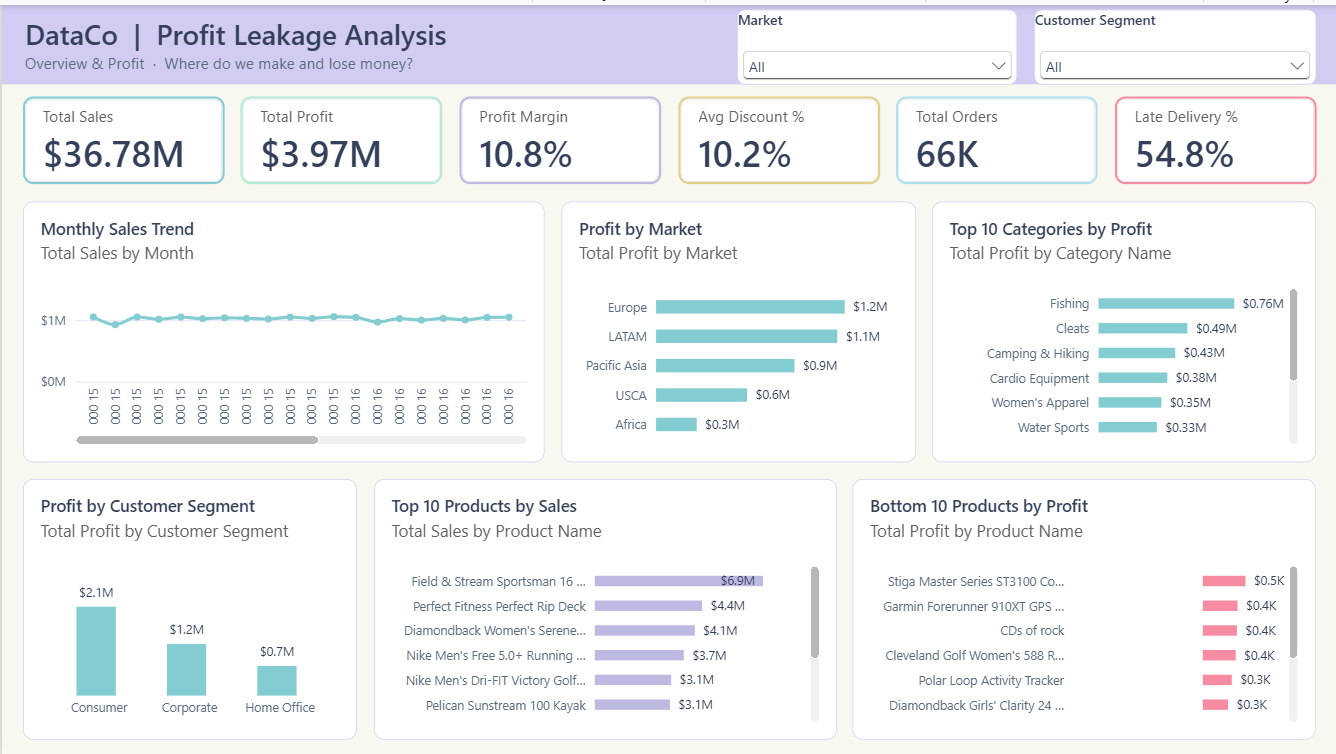

This screenshot's page, from the dashboard's own definition file:
{"tool":"powerbi","page":{"name":"Overview & Profit","canvas":[1280,720],"ordinal":0},"visuals":[{"type":"textbox","box":[0,0,1280,76],"z":0},{"type":"slicer","title":"Market","fields":{"Values":["DataCo_Orders.Market"]},"box":[704.7,4.3,268.9,71.9],"z":3000},{"type":"slicer","title":"Customer Segment","fields":{"Values":["DataCo_Orders.Customer Segment"]},"box":[989.4,4.3,270.4,71.9],"z":4000},{"type":"cardVisual","fields":{"Data":["DataCo_Orders.Total Sales"]},"box":[20,88,193.3,84],"z":10000},{"type":"cardVisual","fields":{"Data":["DataCo_Orders.Total_Profit"]},"box":[229.3,88,193.3,84],"z":11000},{"type":"cardVisual","fields":{"Data":["DataCo_Orders.Profit_Margin"]},"box":[438.7,88,193.3,84],"z":12000},{"type":"cardVisual","fields":{"Data":["DataCo_Orders.Avg_Discount_Percentage"]},"box":[648,88,193.3,84],"z":13000},{"type":"cardVisual","fields":{"Data":["DataCo_Orders.Total_Orders"]},"box":[857.3,88,193.3,84],"z":14000},{"type":"cardVisual","fields":{"Data":["DataCo_Orders.Late_Delivery_Percentage"]},"box":[1066.7,88,193.3,84],"z":15000},{"type":"lineChart","title":"Monthly Sales Trend","fields":{"Category":["DataCo_Orders.Month Start"],"Y":["DataCo_Orders.Total Sales"]},"box":[20,188,500,250],"z":20000},{"type":"clusteredBarChart","title":"Profit by Market","fields":{"Category":["DataCo_Orders.Market"],"Y":["DataCo_Orders.Total_Profit"]},"box":[536,188,340,250],"z":21000},{"type":"clusteredBarChart","title":"Top 10 Categories by Profit","fields":{"Category":["DataCo_Orders.Category Name"],"Y":["DataCo_Orders.Total_Profit"]},"box":[892,188,368,250],"z":22000},{"type":"clusteredColumnChart","title":"Profit by Customer Segment","fields":{"Category":["DataCo_Orders.Customer Segment"],"Y":["DataCo_Orders.Total_Profit"]},"box":[20,454,320,250],"z":23000},{"type":"clusteredBarChart","title":"Top 10 Products by Sales","fields":{"Category":["DataCo_Orders.Product Name"],"Y":["DataCo_Orders.Total Sales"]},"box":[356,454,444,250],"z":24000},{"type":"clusteredBarChart","title":"Bottom 10 Products by Profit","fields":{"Category":["DataCo_Orders.Product Name"],"Y":["DataCo_Orders.Total_Profit"]},"box":[816,454,444,250],"z":25000}]}

Visuals, with their boxes in screenshot pixels (x1, y1, x2, y2), scaled from the page's 1280x720 canvas onto the 1336x754 screenshot:
textbox: 0 0 1335 80
"Market" slicer: 736 5 1016 80
"Customer Segment" slicer: 1033 5 1315 80
cardVisual - DataCo_Orders.Total Sales: 21 92 223 180
cardVisual - DataCo_Orders.Total_Profit: 239 92 441 180
cardVisual - DataCo_Orders.Profit_Margin: 458 92 660 180
cardVisual - DataCo_Orders.Avg_Discount_Percentage: 676 92 878 180
cardVisual - DataCo_Orders.Total_Orders: 895 92 1097 180
cardVisual - DataCo_Orders.Late_Delivery_Percentage: 1113 92 1315 180
"Monthly Sales Trend" lineChart: 21 197 543 459
"Profit by Market" clusteredBarChart: 559 197 914 459
"Top 10 Categories by Profit" clusteredBarChart: 931 197 1315 459
"Profit by Customer Segment" clusteredColumnChart: 21 475 355 737
"Top 10 Products by Sales" clusteredBarChart: 372 475 835 737
"Bottom 10 Products by Profit" clusteredBarChart: 852 475 1315 737
